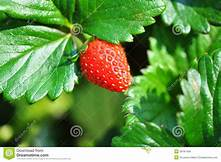Fresa: (77, 33, 137, 96)
